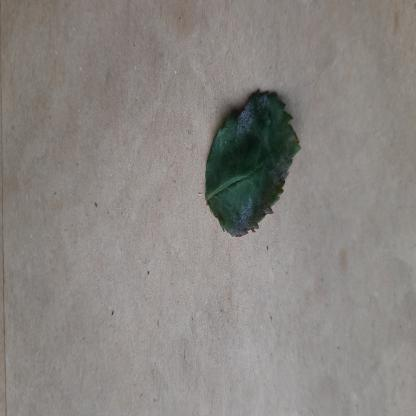powdery-mildew: (201, 88, 302, 243)
